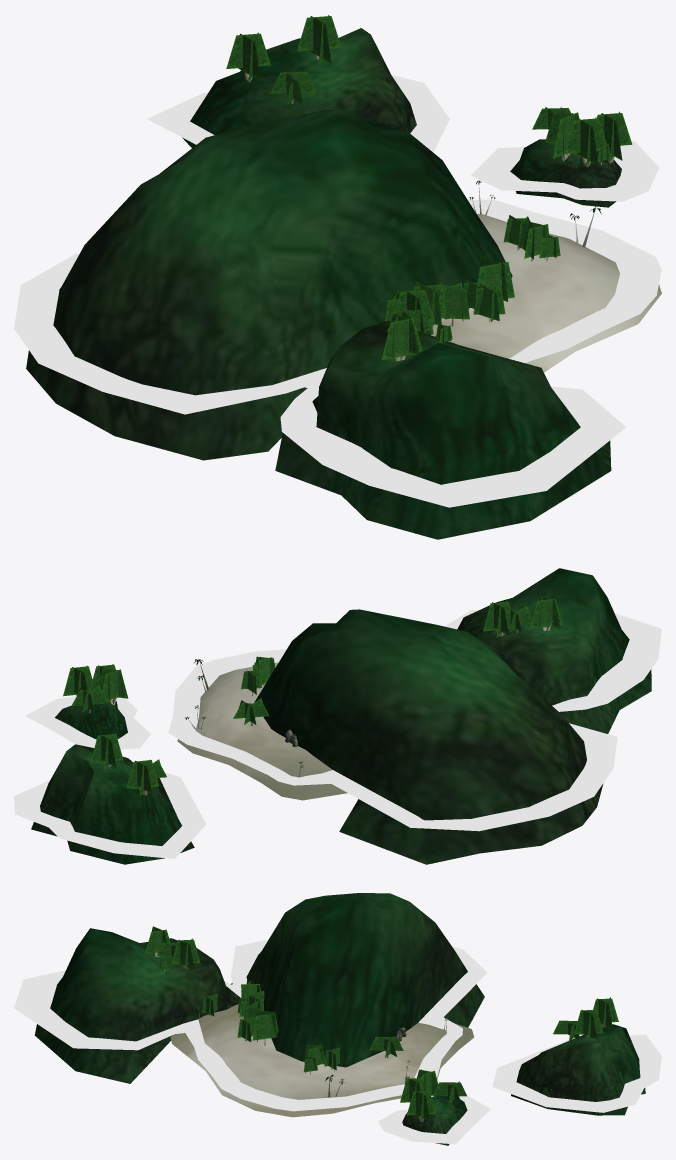
Rendered from pir_m_are_isl_cutthroat_dock_lod.fbx.
The picture shows the model from 3 angles, top to bottom: view 1: azimuth 30°, elevation 25°; view 2: azimuth 150°, elevation 25°; view 3: azimuth 270°, elevation 25°; orthographic projection. The views are drawn at different scales.
Visible parts, largest first — view 1: hill_1, hill_4, dock_wave, beach, hill_2, hill_3, leaves_2.010, leaves, leaves_0.022, leaves_0.005, leaves_0.019; view 2: hill_1, dock_wave, hill_4, hill_2, beach, hill_3, leaves_1.023, leaves_2.009, leaves_2.006; view 3: hill_1, hill_4, dock_wave, beach, hill_2, hill_3, leaves_3.005.
Boxes of the visible parts, x1,y1,x2,y2 form: hill_1: [26, 109, 512, 460]; hill_4: [275, 321, 611, 539]; dock_wave: [14, 75, 661, 507]; beach: [431, 214, 661, 372]; hill_2: [182, 28, 416, 147]; hill_3: [510, 139, 621, 207]; leaves_2.010: [381, 318, 422, 360]; leaves: [518, 216, 549, 259]; leaves_0.022: [297, 16, 341, 51]; leaves_0.005: [477, 262, 514, 298]; leaves_0.019: [226, 33, 270, 68]; hill_1: [254, 609, 603, 864]; dock_wave: [14, 610, 661, 858]; hill_4: [457, 568, 651, 733]; hill_2: [31, 744, 194, 864]; beach: [177, 662, 347, 800]; hill_3: [55, 700, 127, 739]; leaves_1.023: [530, 598, 562, 628]; leaves_2.009: [91, 733, 123, 762]; leaves_2.006: [126, 760, 159, 788]; hill_1: [230, 893, 484, 1067]; hill_4: [34, 928, 240, 1083]; dock_wave: [14, 939, 661, 1144]; beach: [170, 1004, 474, 1117]; hill_2: [511, 1024, 645, 1115]; hill_3: [402, 1094, 467, 1145]; leaves_3.005: [252, 1014, 278, 1040].
Size of the model in its own units: 183748 by 59408 by 232662.
Materials: 3 (3 with a texture image).
